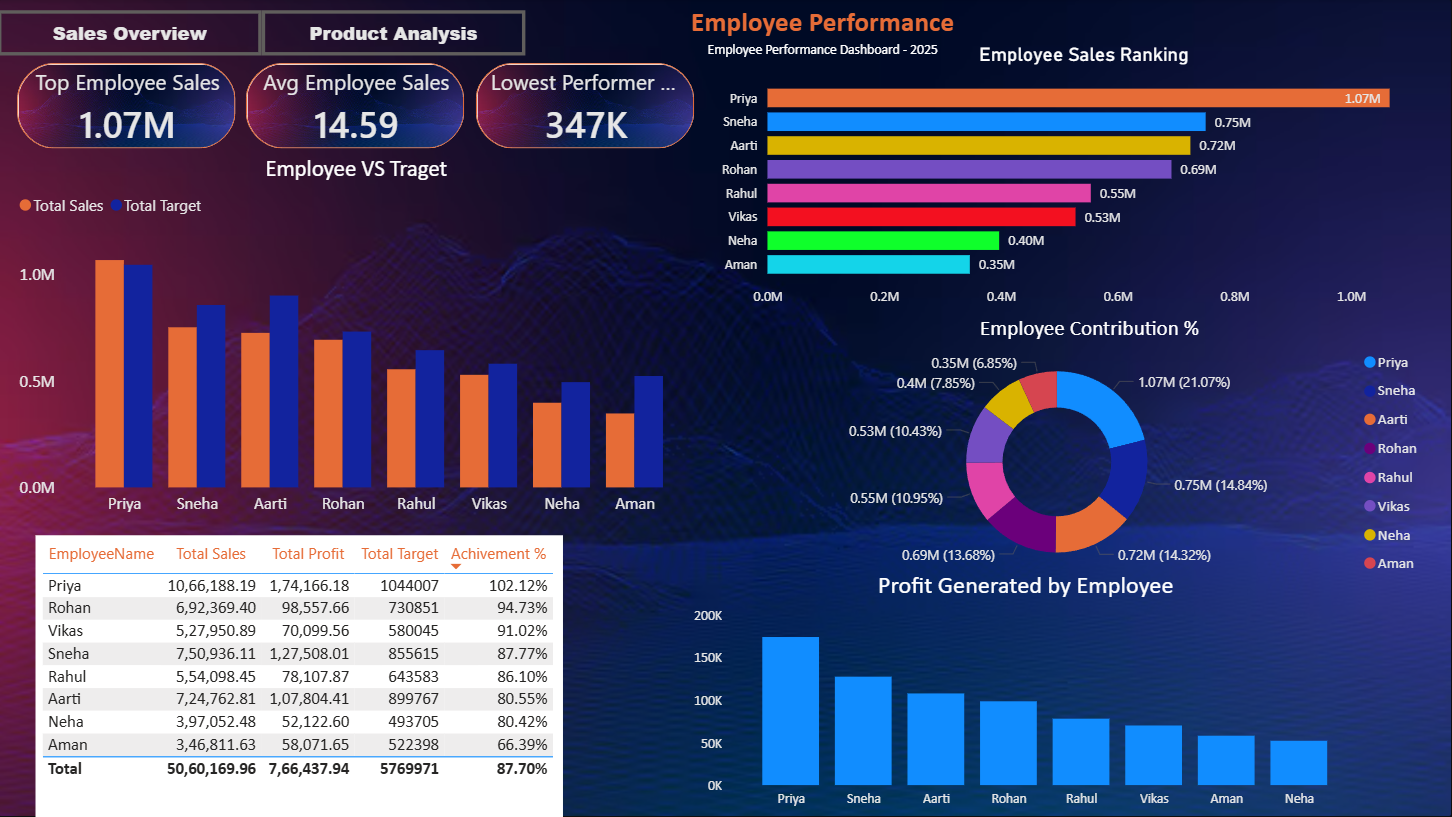

What the dashboard file says about the page in this screenshot:
{"tool":"powerbi","page":{"name":"Employee Performance","canvas":[1280,720],"ordinal":1},"visuals":[{"type":"clusteredBarChart","title":"Employee Sales Ranking","fields":{"Category":["SalesData.EmployeeName"],"Y":["SalesData.Total Sales"]},"box":[629.8,38.4,650.4,240.1],"z":0},{"type":"clusteredColumnChart","title":"Employee VS Traget","fields":{"Category":["SalesData.EmployeeName"],"Y":["SalesData.Total Sales","SalesData.Total Target"]},"box":[13.7,135.8,603.8,325.2],"z":1000},{"type":"cardVisual","fields":{"Data":["SalesData.Top Employee Sales"]},"box":[0,39.8,226.4,109.8],"z":2000},{"type":"cardVisual","fields":{"Data":["SalesData.Avg Employee Sales"]},"box":[201.7,39.8,226.4,109.8],"z":3000},{"type":"cardVisual","fields":{"Data":["SalesData.Lowest Performer Sales"]},"box":[403.4,39.8,226.4,109.8],"z":4000},{"type":"donutChart","title":"Employee Contribution %","fields":{"Category":["SalesData.EmployeeName"],"Y":["SalesData.Total Sales"]},"box":[657.3,278.6,605.1,236],"z":5000},{"type":"clusteredColumnChart","title":"Profit Generated by Employee","fields":{"Category":["SalesData.EmployeeName"],"Y":["SalesData.Total Profit"]},"box":[606.5,502.2,594.2,218.2],"z":6000},{"type":"tableEx","title":"Employee VS Traget","fields":{"Values":["SalesData.EmployeeName","SalesData.Total Sales","SalesData.Total Profit","SalesData.Total Target","SalesData.Achivement %"]},"box":[32.9,472,463.8,248.4],"z":7000},{"type":"textbox","box":[463.8,0,522.8,59],"z":8000},{"type":"actionButton","box":[0,9.6,231.9,39.8],"z":9000},{"type":"actionButton","box":[231.9,9.6,231.9,39.8],"z":10000}]}

Visuals, with their boxes in screenshot pixels (x1, y1, x2, y2), scaled from the page's 1280x720 canvas onto the 1452x817 screenshot:
"Employee Sales Ranking" clusteredBarChart: 714 44 1451 316
"Employee VS Traget" clusteredColumnChart: 16 154 700 523
cardVisual - SalesData.Top Employee Sales: 0 45 257 170
cardVisual - SalesData.Avg Employee Sales: 229 45 486 170
cardVisual - SalesData.Lowest Performer Sales: 458 45 714 170
"Employee Contribution %" donutChart: 746 316 1432 584
"Profit Generated by Employee" clusteredColumnChart: 688 570 1362 816
"Employee VS Traget" tableEx: 37 536 563 816
textbox: 526 0 1119 67
actionButton: 0 11 263 56
actionButton: 263 11 526 56
